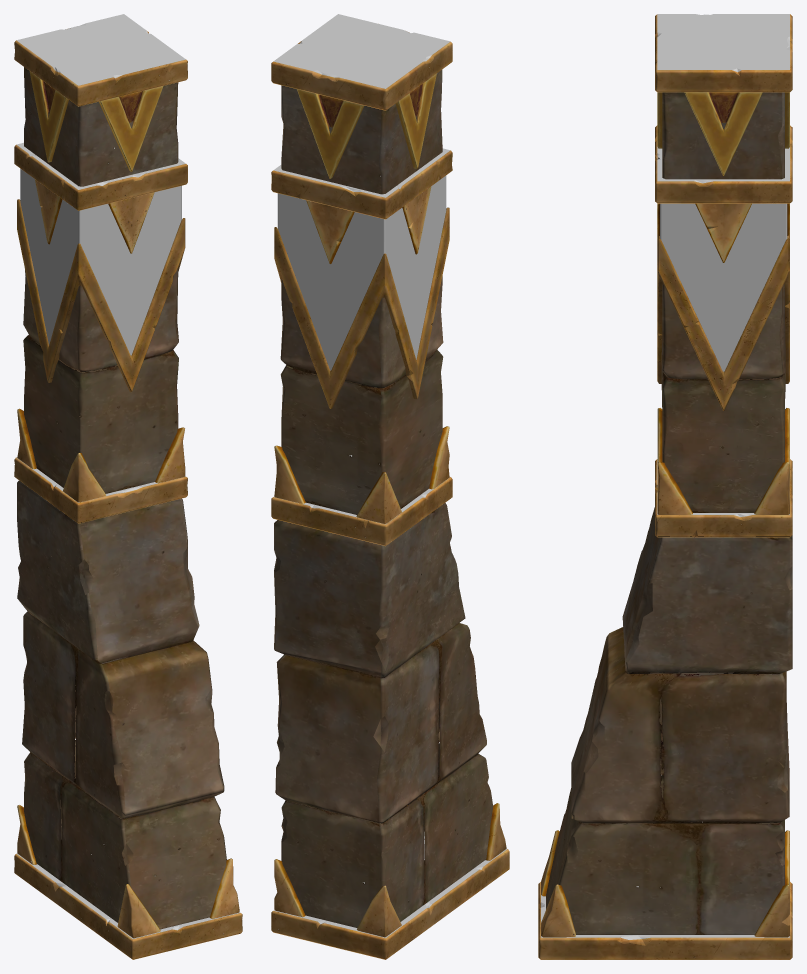
3 renders of one model, left to right at view 1: azimuth 30°, elevation 25°; view 2: azimuth 150°, elevation 25°; view 3: azimuth 270°, elevation 25°, orthographic. The views are drawn at different scales.
Parts seen in each view (by area): view 1: SM_Vault_8m_Column_01_V4_LOD0; view 2: SM_Vault_8m_Column_01_V4_LOD0; view 3: SM_Vault_8m_Column_01_V4_LOD0.
Boxes of the visible parts, x1,y1,x2,y2 form: SM_Vault_8m_Column_01_V4_LOD0: (14, 14, 242, 959); SM_Vault_8m_Column_01_V4_LOD0: (271, 14, 509, 959); SM_Vault_8m_Column_01_V4_LOD0: (538, 14, 792, 959).
Size of the model in its own units: 1.12 by 8 by 2.07.
